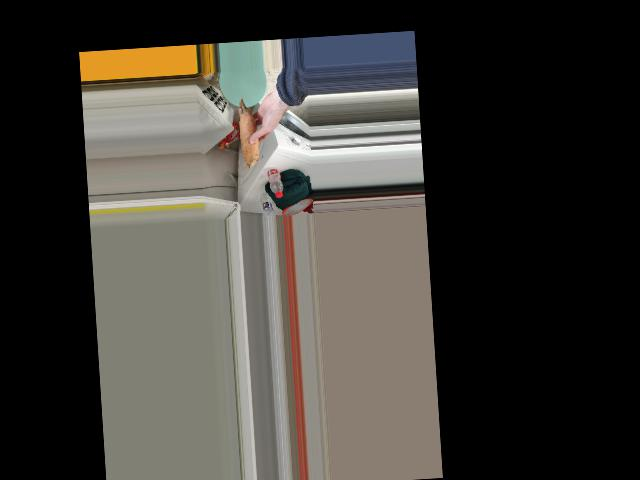sweet_potato: (236, 102, 262, 163)
